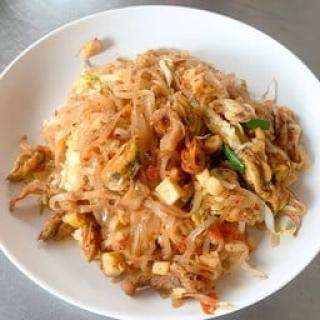carbs: (64, 56, 242, 146), (152, 146, 274, 269), (49, 188, 151, 264)
meat: (105, 146, 143, 188), (16, 142, 50, 182)
pad_thai: (19, 49, 303, 298)
